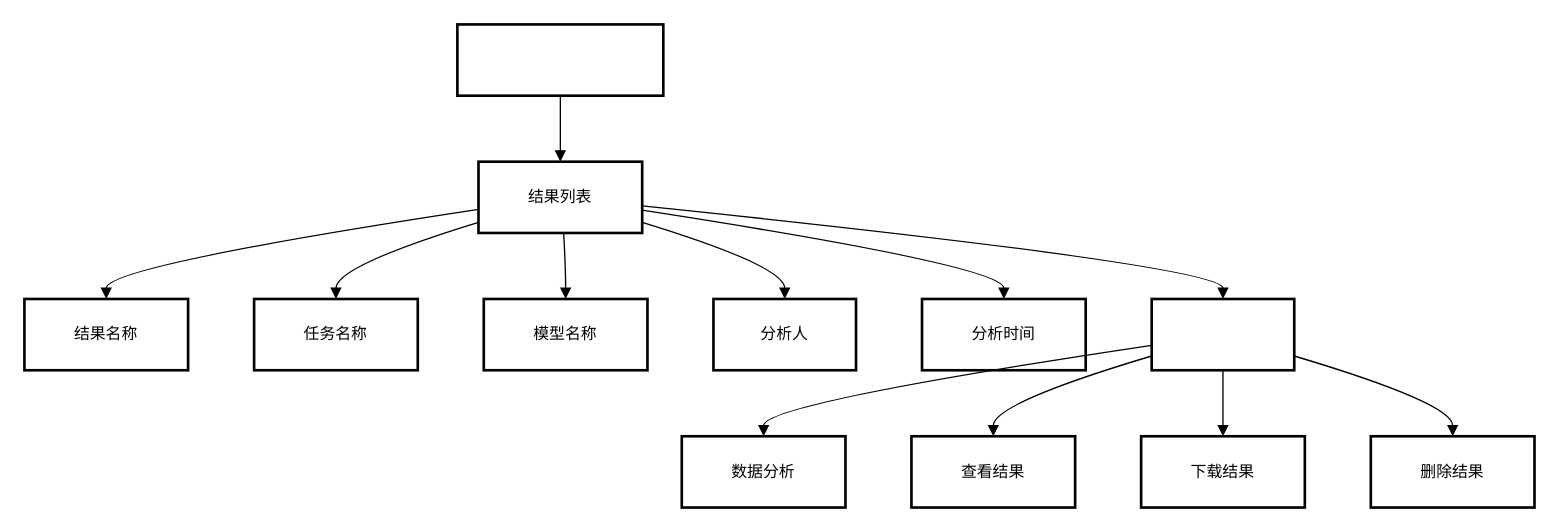
The diagram is 1558 pixels wide and 531 high, and some of its shapes have lost their labels. Each missing label, with the centre of its shape:
操作列: pixel 1222 334
结果管理功能: pixel 559 59
